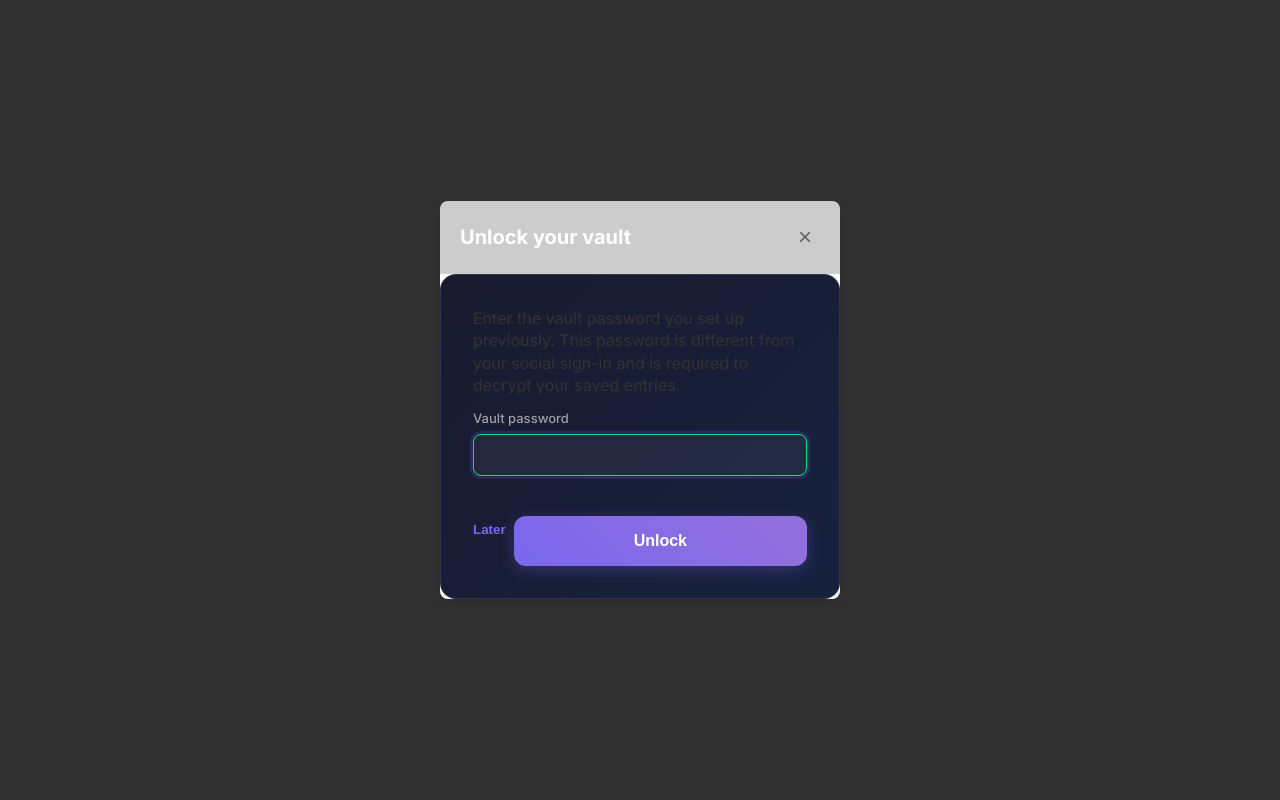
unlock mode — stored envelope is unusable, falls back to the legacy path › with no wrapped key to fall back to, the original envelope error surfaces
The image size is (1280, 800).
Type "whatever" into the password field labelled "Vault password" at (640, 455), box [473,434,807,476]
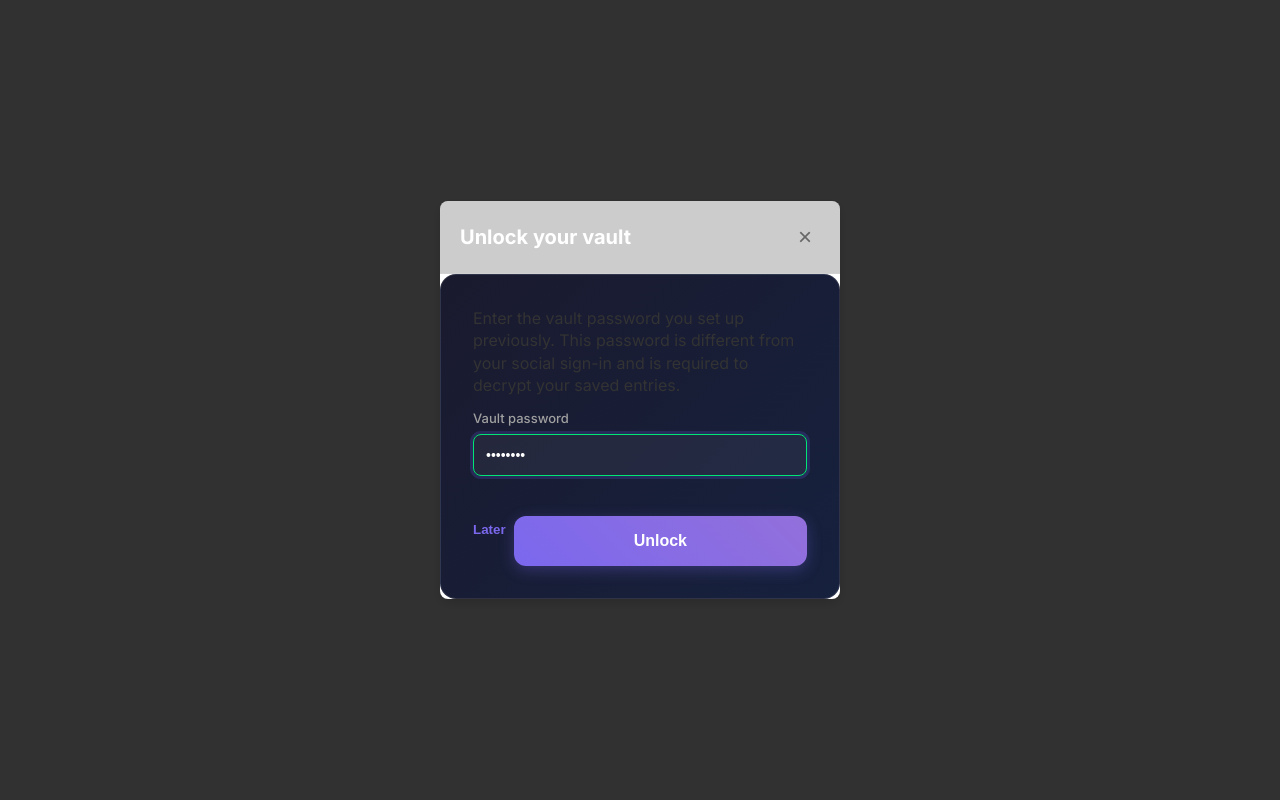
Click the button "Unlock" at (660, 541), box [514,516,807,566]
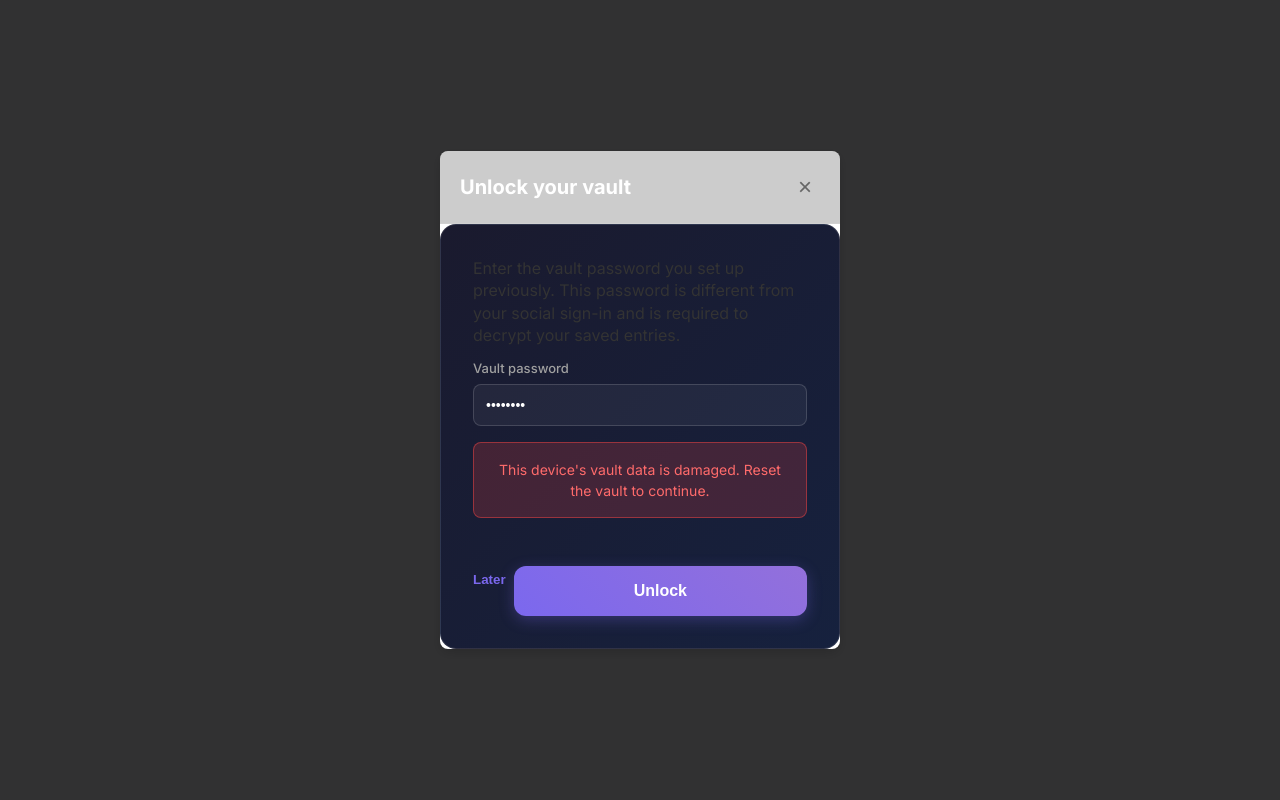
Expected: the message does not show "bad magic", [473,442,807,518]
Expected: the message shows "vault data is damaged", [499,461,781,499]
